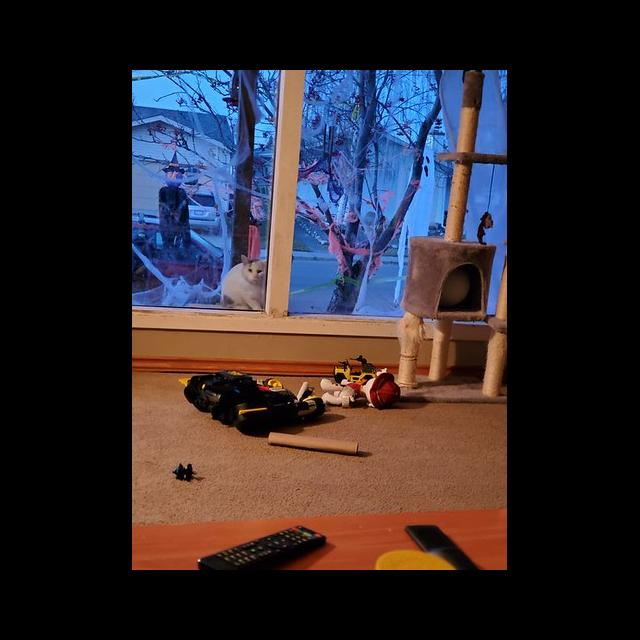animals: (221, 254, 269, 310)
